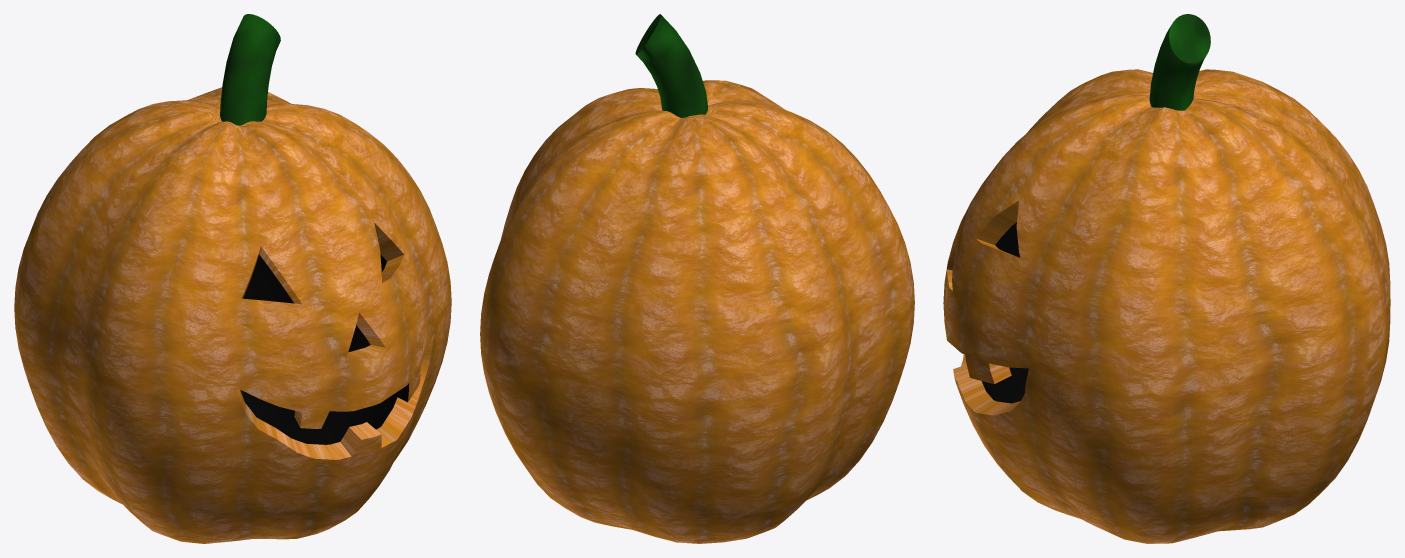
The model's file is jackolantern.obj.
The picture shows the model from 3 angles, left to right: view 1: azimuth 30°, elevation 25°; view 2: azimuth 150°, elevation 25°; view 3: azimuth 270°, elevation 25°; orthographic projection. The views are drawn at different scales.
Visible parts, largest first — view 1: Sphere, Cylinder; view 2: Sphere, Cylinder; view 3: Sphere, Cylinder.
Part boxes in pixels (x1,y1,x2,y2): Sphere: (14,87,451,543); Cylinder: (220,14,280,125); Sphere: (480,80,914,543); Cylinder: (635,14,707,117); Sphere: (943,69,1390,543); Cylinder: (1149,14,1210,110).
Size of the model in its own units: 1.84 by 2.36 by 1.89.
3 materials, 2 textured.
